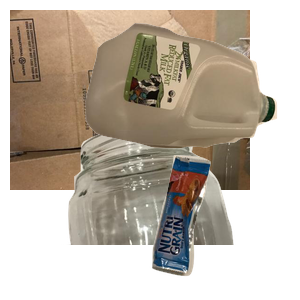cardboard: (10, 10, 250, 190)
glass: (61, 120, 287, 300)
plastic: (83, 21, 300, 162)
trash: (149, 152, 300, 300)
